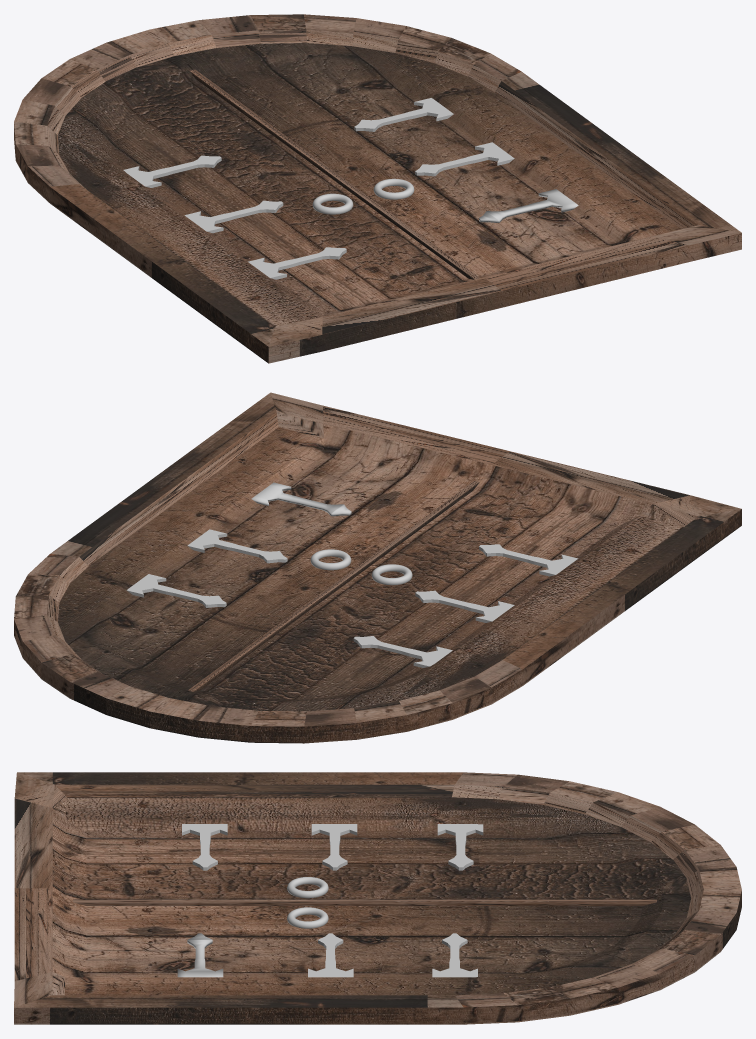
File: door.fbx
The picture shows the model from 3 angles, top to bottom: view 1: azimuth 30°, elevation 25°; view 2: azimuth 150°, elevation 25°; view 3: azimuth 270°, elevation 25°; orthographic projection. The views are drawn at different scales.
Parts seen in each view (by area): view 1: Circle, Cube, Plane.004, Plane.005, Plane, Plane.002, Plane.003, Plane.001, Torus, Torus.001; view 2: Circle, Cube, Plane.005, Plane.004, Plane, Plane.001, Plane.002, Plane.003, Torus.001, Torus; view 3: Circle, Cube, Plane.001, Plane.002, Plane.003, Plane.005, Plane.004, Plane, Torus.001, Torus.
Part boxes in pixels (x1,y1,x2,y2): Circle: (14, 14, 741, 363); Cube: (189, 69, 479, 279); Plane.004: (415, 142, 514, 176); Plane.005: (479, 189, 578, 222); Plane: (354, 98, 453, 131); Plane.002: (184, 200, 283, 233); Plane.003: (248, 247, 346, 279); Plane.001: (123, 155, 221, 187); Torus: (312, 193, 353, 214); Torus.001: (373, 178, 414, 199); Circle: (14, 392, 741, 743); Cube: (188, 481, 479, 691); Plane.005: (251, 482, 351, 516); Plane.004: (187, 529, 287, 563); Plane: (126, 574, 226, 607); Plane.001: (353, 636, 452, 667); Plane.002: (415, 590, 514, 622); Plane.003: (479, 544, 578, 576); Torus.001: (310, 549, 351, 570); Torus: (371, 564, 412, 585); Circle: (14, 772, 741, 1024); Cube: (73, 899, 656, 905); Plane.001: (437, 824, 483, 870); Plane.002: (311, 824, 357, 870); Plane.003: (182, 824, 227, 870); Plane.005: (177, 933, 223, 977); Plane.004: (308, 933, 353, 977); Plane: (432, 933, 477, 977); Torus.001: (287, 907, 328, 928); Torus: (287, 877, 328, 898).
Bounding box in the file's own units: 229 × 7.74 × 299.
